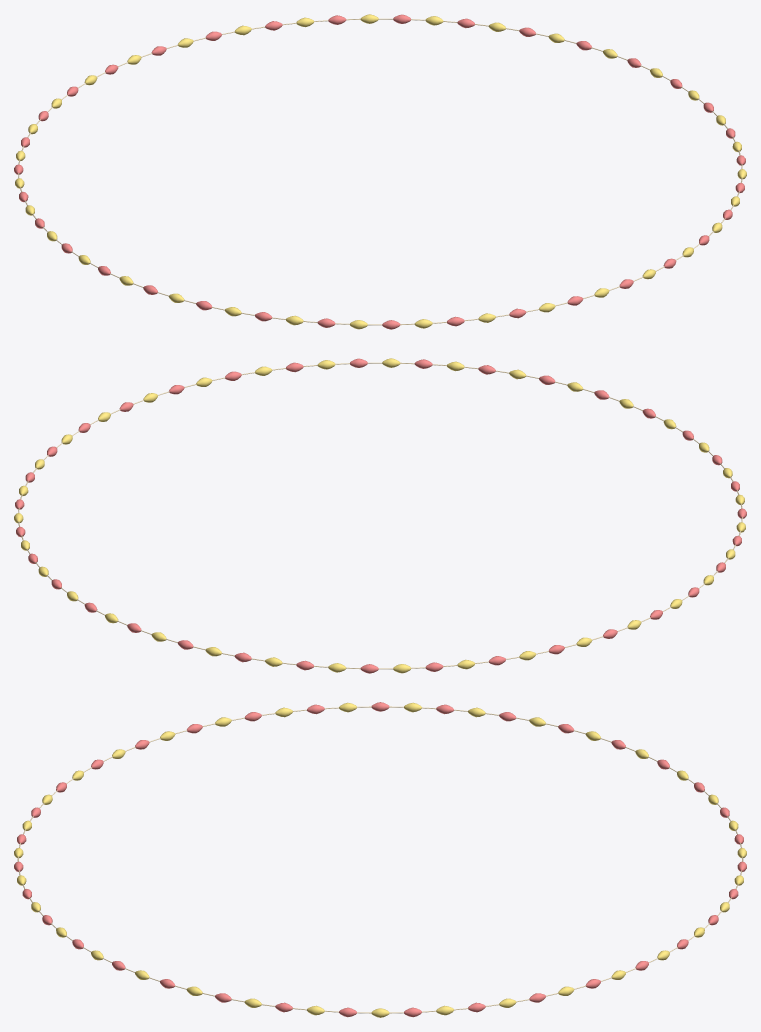
Rendered from SharkBaitFloatLine.glb.
3 renders of one model, top to bottom at view 1: azimuth 30°, elevation 25°; view 2: azimuth 150°, elevation 25°; view 3: azimuth 270°, elevation 25°, orthographic.
Parts seen in each view (by area): view 1: FloatsA, FloatsB, Rope; view 2: FloatsA, FloatsB, Rope; view 3: FloatsA, FloatsB, Rope.
Boxes of the visible parts, x1,y1,x2,y2 form: FloatsA: [15, 14, 746, 329]; FloatsB: [14, 14, 745, 329]; Rope: [18, 18, 742, 325]; FloatsA: [14, 358, 745, 673]; FloatsB: [15, 358, 746, 673]; Rope: [18, 362, 742, 669]; FloatsA: [14, 702, 746, 1017]; FloatsB: [14, 702, 746, 1017]; Rope: [17, 706, 743, 1013].
Size of the model in its own units: 89.14 by 1.2 by 89.05.
